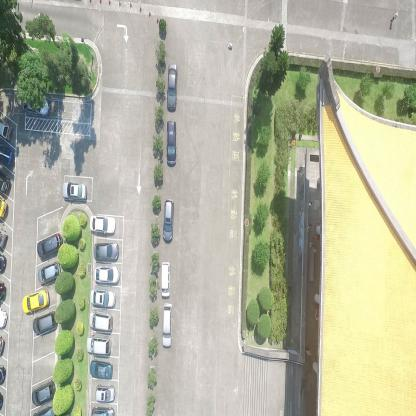car: (22, 287, 50, 314), (21, 90, 50, 116), (36, 232, 63, 259), (31, 379, 57, 406), (32, 310, 57, 337), (166, 61, 178, 112), (162, 197, 175, 243), (61, 179, 88, 201), (38, 260, 62, 284), (93, 240, 119, 262), (162, 302, 174, 349), (166, 120, 178, 166), (89, 309, 113, 332), (87, 334, 111, 356), (90, 214, 116, 234), (89, 358, 113, 379), (94, 265, 120, 284), (90, 289, 117, 307), (160, 259, 171, 299), (0, 142, 16, 169), (95, 384, 116, 402), (0, 117, 13, 142), (0, 172, 13, 195), (90, 405, 117, 415), (33, 404, 57, 415), (0, 225, 8, 250), (0, 197, 8, 219), (0, 307, 8, 329), (0, 279, 7, 299), (0, 254, 6, 274)
